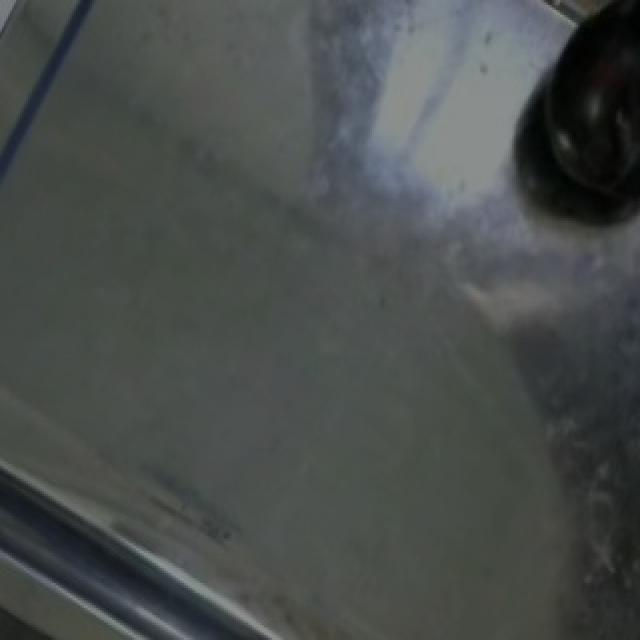Fruit: (518, 0, 640, 32)
